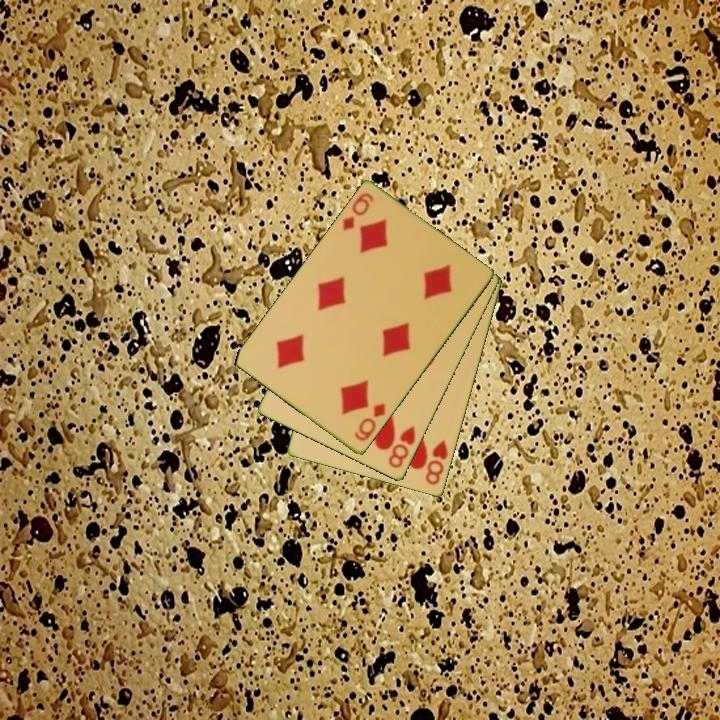6d: (339, 189, 377, 234), (351, 400, 389, 444)
8h: (385, 423, 419, 471), (422, 436, 451, 488)
